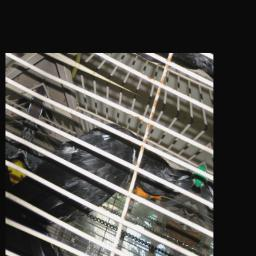Crow: (6, 88, 200, 256)
